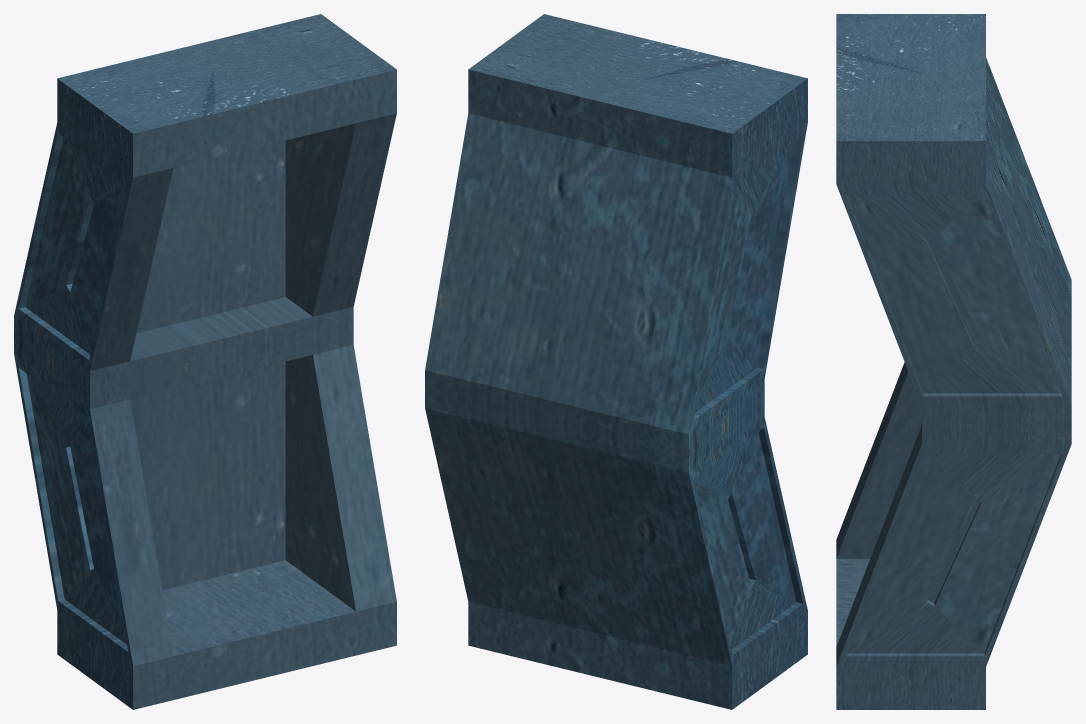
File: ScienceModel.fbx
3 renders of one model, left to right at view 1: azimuth 30°, elevation 25°; view 2: azimuth 150°, elevation 25°; view 3: azimuth 270°, elevation 25°, orthographic.
Visible parts, largest first — view 1: Science Stuff; view 2: Science Stuff; view 3: Science Stuff.
Part boxes in pixels (x1,y1,x2,y2): Science Stuff: (14,14,396,709); Science Stuff: (425,14,807,709); Science Stuff: (836,14,1071,709).
Size of the model in its own units: 402 by 838 by 314.
